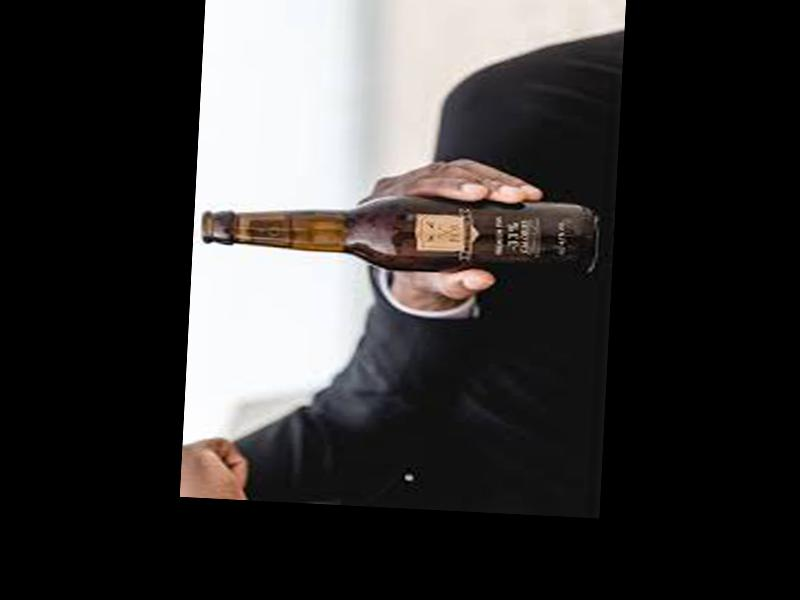Beer: (200, 183, 600, 278)
